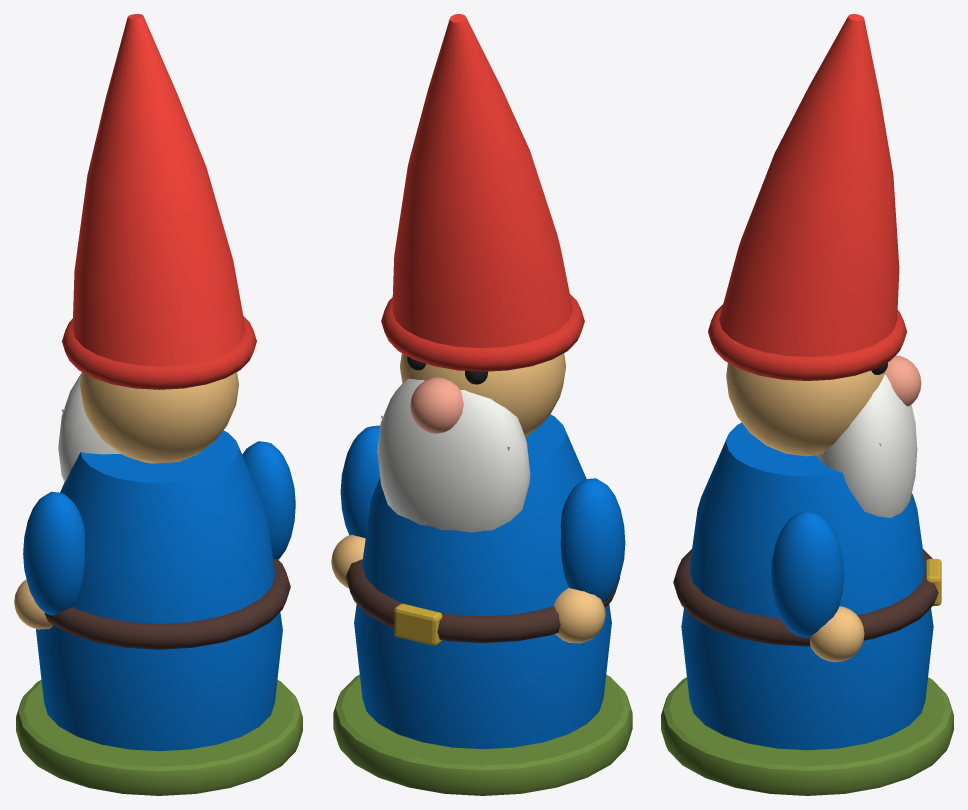
The model's file is gnome.fbx.
3 views of the same model, side by side, from view 1: azimuth 30°, elevation 25°; view 2: azimuth 150°, elevation 25°; view 3: azimuth 270°, elevation 25° (orthographic). The views are drawn at different scales.
Visible parts, largest first — view 1: Garden Gnome; view 2: Garden Gnome; view 3: Garden Gnome.
Part boxes in pixels (x1=…): Garden Gnome: x1=14, y1=14, x2=302, y2=795; Garden Gnome: x1=331, y1=14, x2=632, y2=795; Garden Gnome: x1=661, y1=14, x2=953, y2=795.
Bounding box in the file's own units: 0.76 × 1.95 × 0.72.
